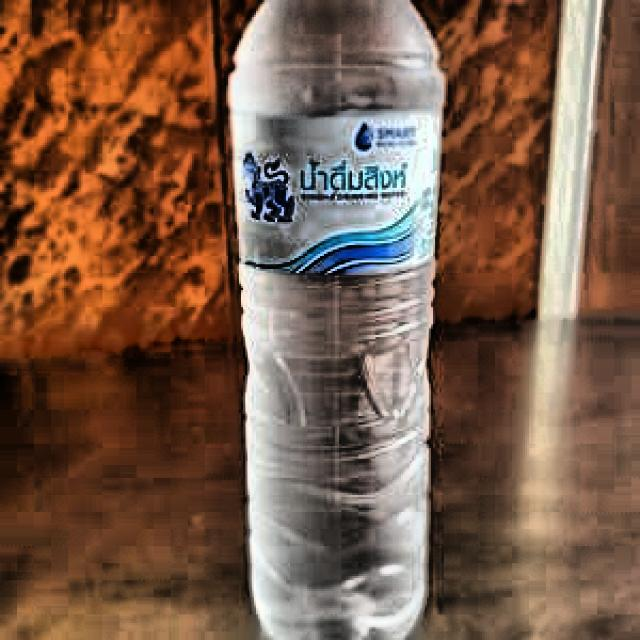Bottles: (205, 2, 482, 640)
